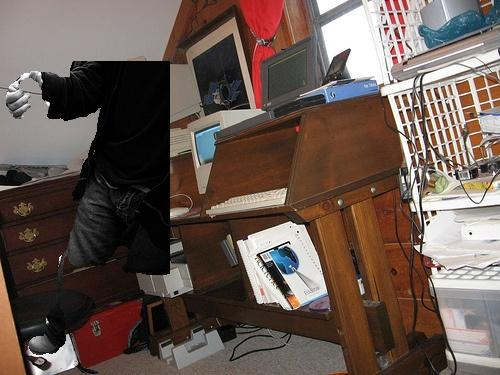tampered: (7, 62, 170, 375)
